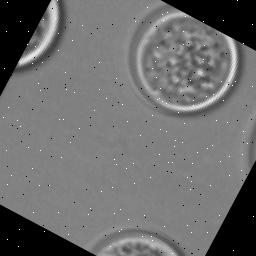picoshell: (129, 5, 240, 114), (14, 0, 64, 71), (90, 229, 184, 256), (248, 123, 256, 166)
